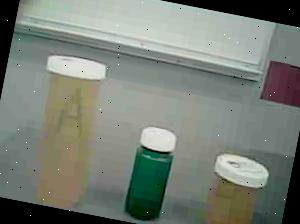Bottle A: (16, 44, 125, 215)
Bottle B: (194, 146, 272, 224)
Bottle C: (118, 120, 182, 224)
